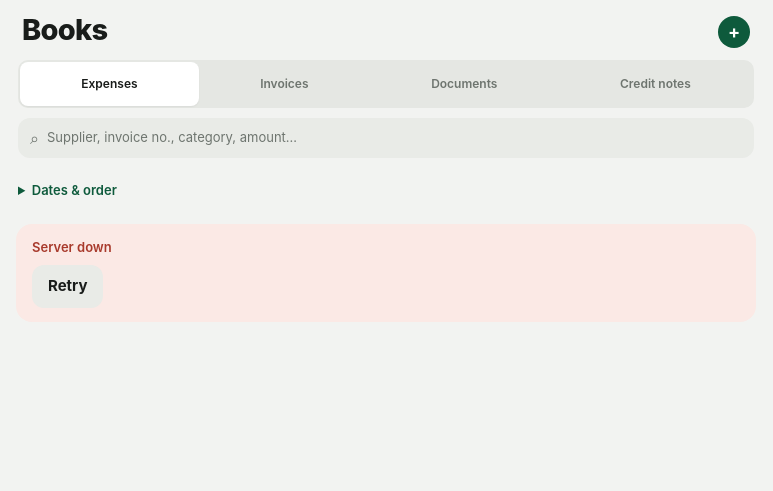
Test: Books empty states (issue #280) › a failed primary load stays a LoadError with Retry — never an empty state
Expected: the text "Server down" is shown, 32,238 -> 112,254
Expected: the text "No expenses yet" is not shown
Click the button "Retry": (68, 286) 32,265 -> 104,308
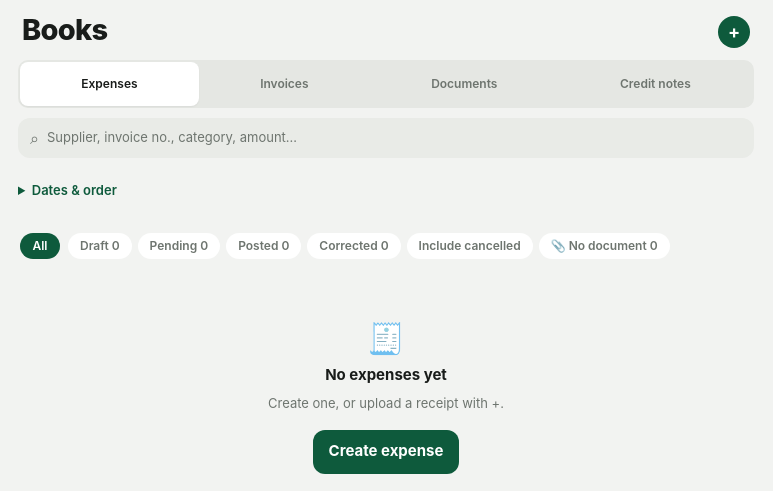
Expected: the text "No expenses yet" is shown, 325,364 -> 447,386
